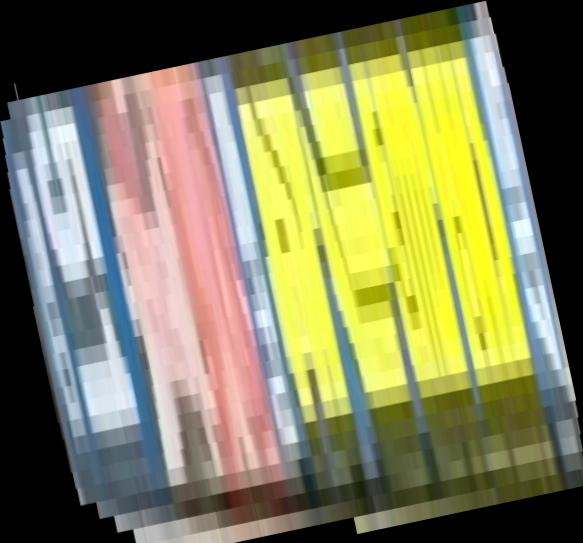flat: (1, 1, 583, 543)
